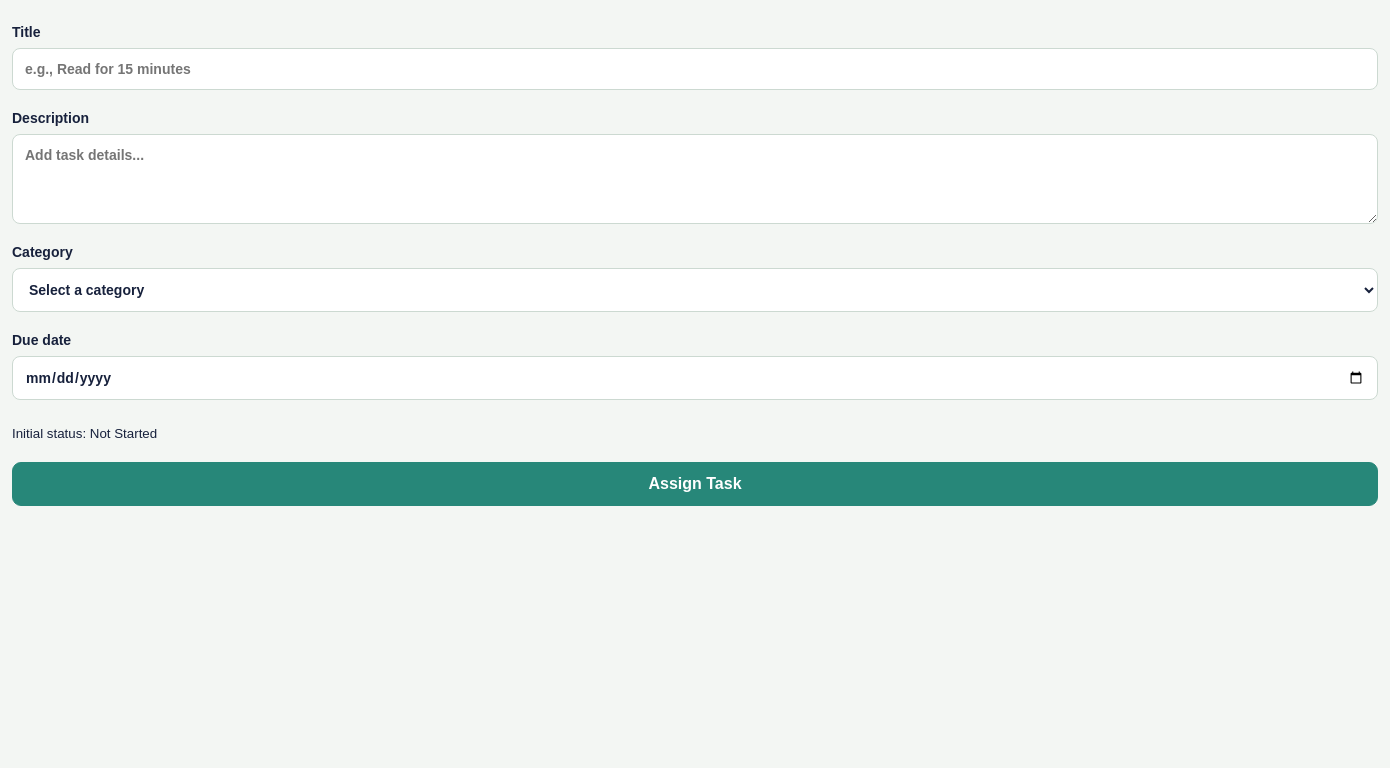
Scenario: posts the selected child and required details using the parent JWT, then clears the form
In the field labelled "Title": (695, 69) [12, 48, 1378, 90], type " Read a book "
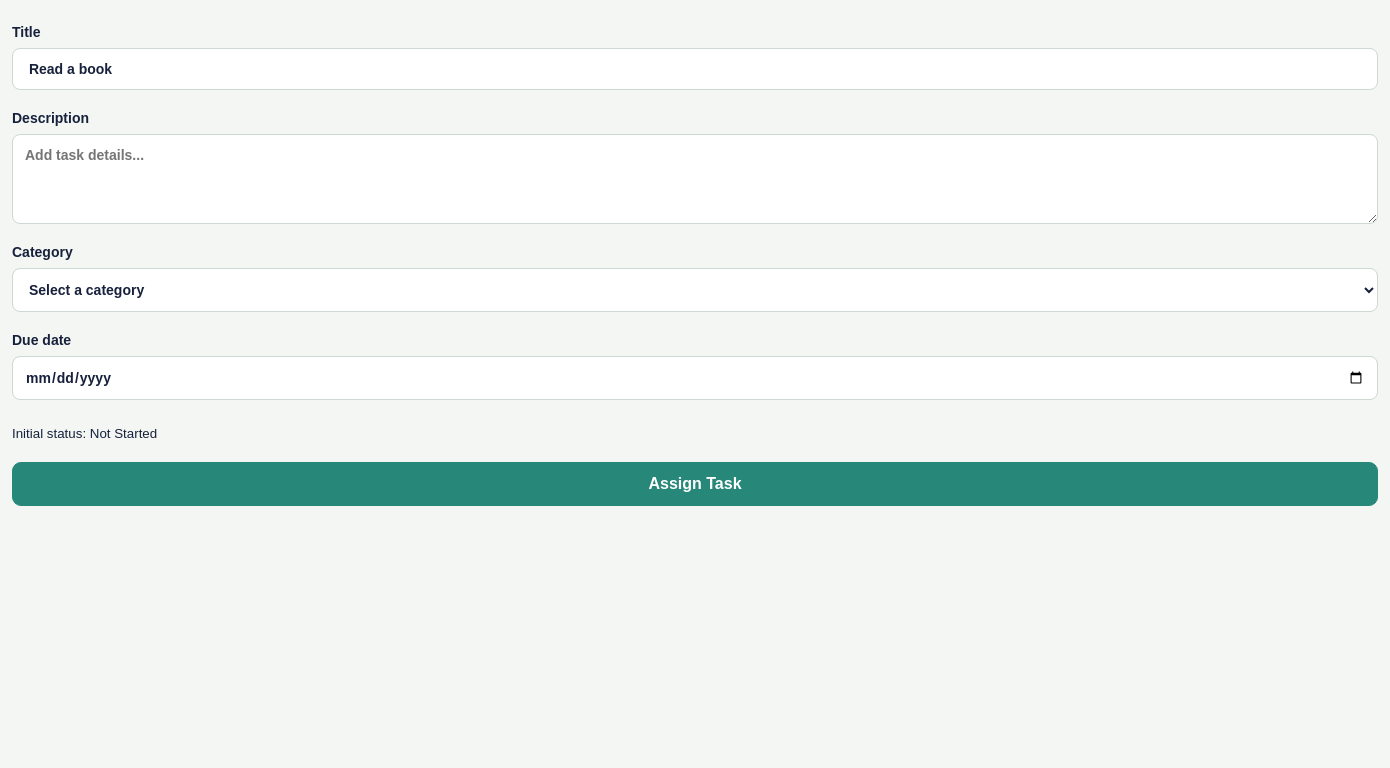
In the text box labelled "Description": (695, 179) [12, 134, 1378, 224], type " Read for 15 minutes. "
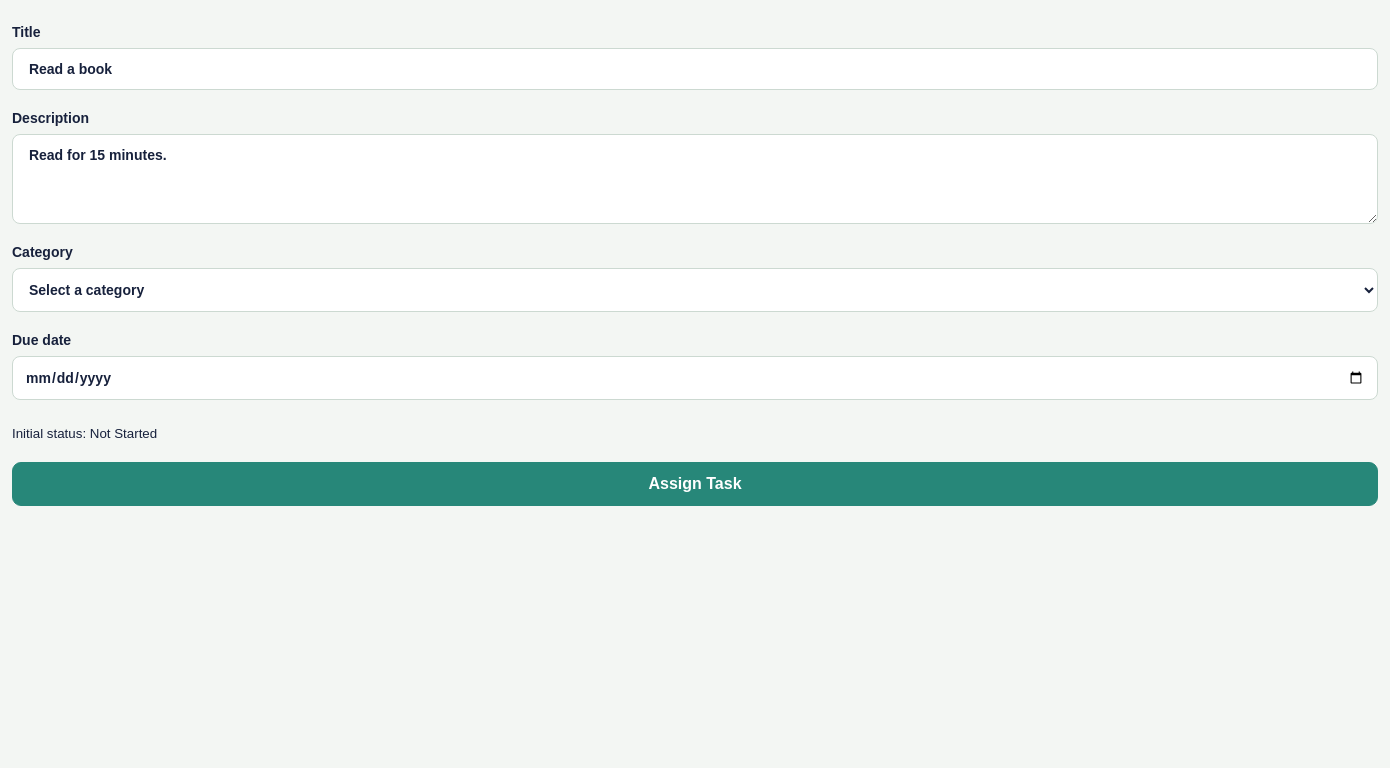
Select "Academic" in the dropdown labelled "Category": (695, 290) [12, 268, 1378, 312]
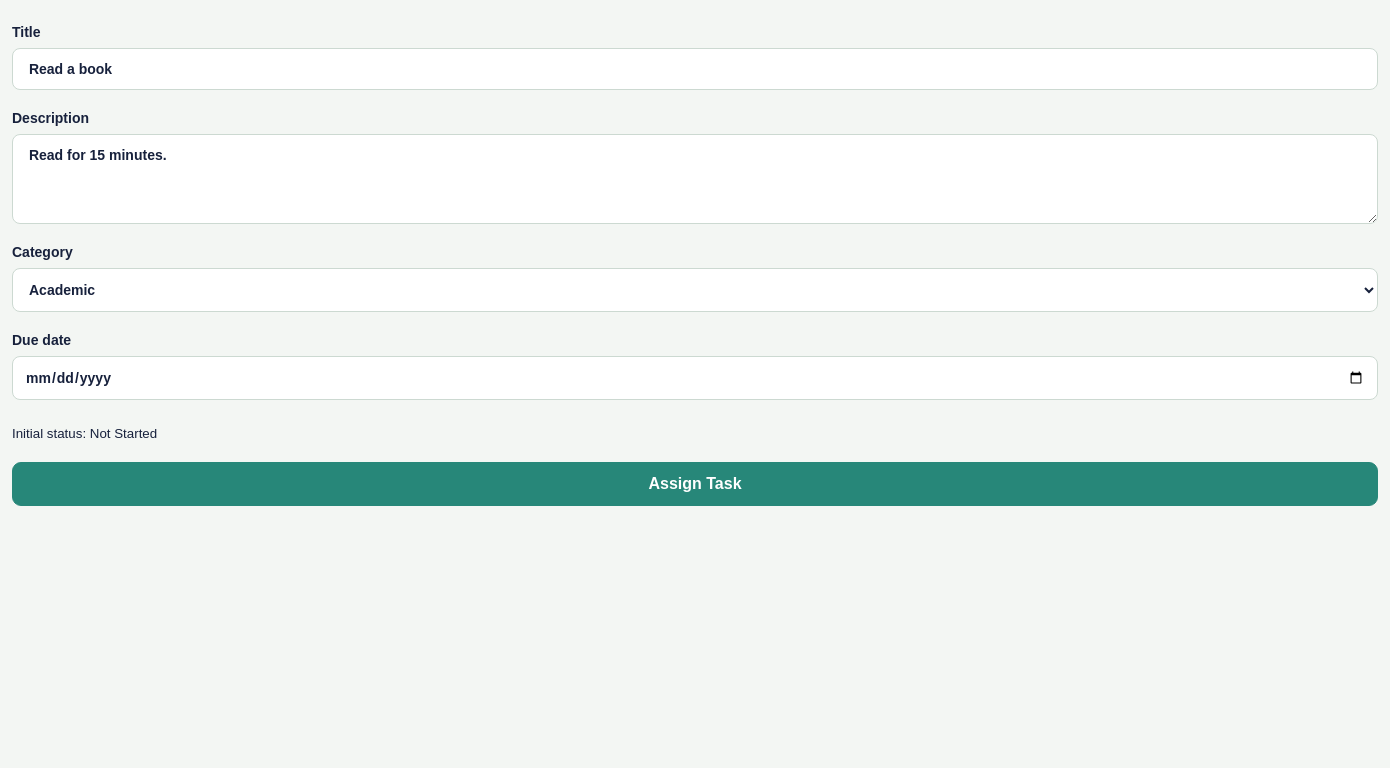
In the date field labelled "Due date": (695, 378) [12, 356, 1378, 400], type "2026-11-08"
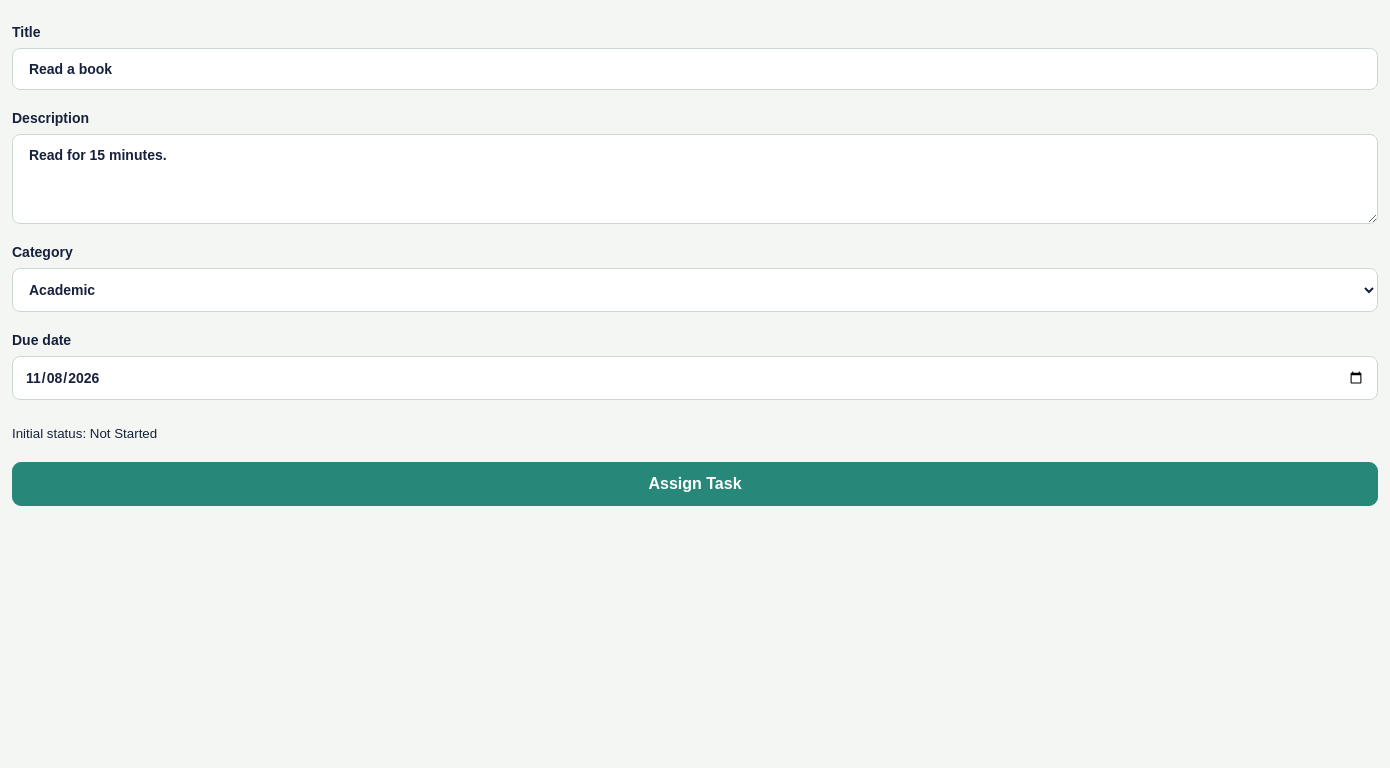
Click the button "Assign Task": click(695, 484) [12, 462, 1378, 506]
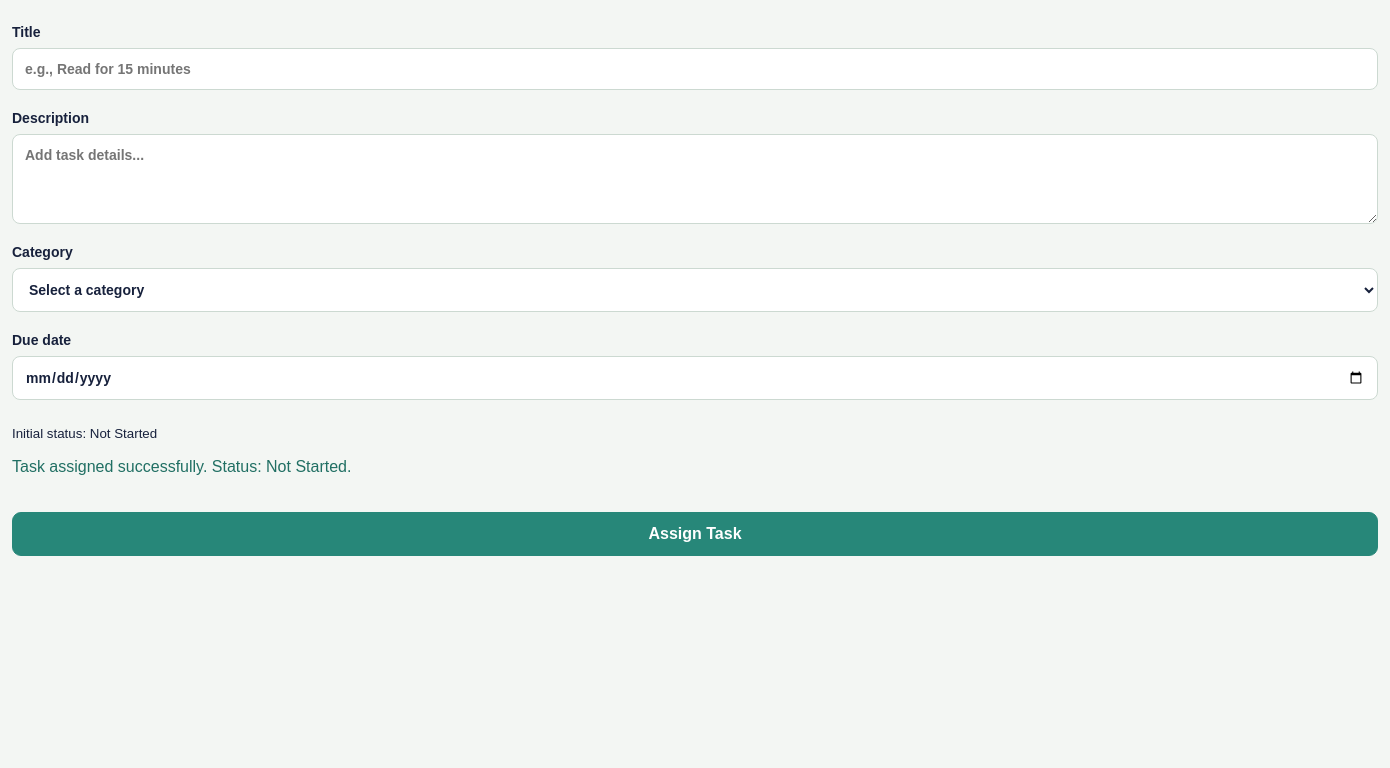
Expected: the text "Task assigned successfully. Status: Not Started." is shown, [12, 458, 351, 475]
Expected: the field labelled "Title" is empty, [12, 48, 1378, 90]
Expected: the text box labelled "Description" is empty, [12, 134, 1378, 224]
